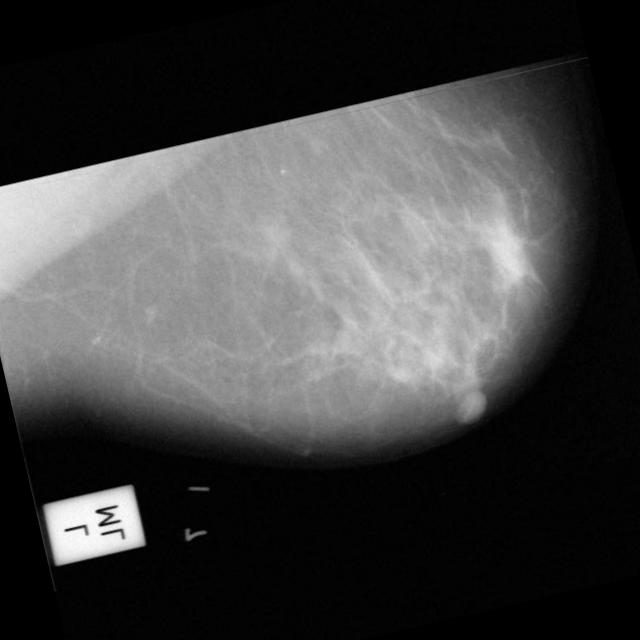ASYM: (481, 227, 538, 284)
